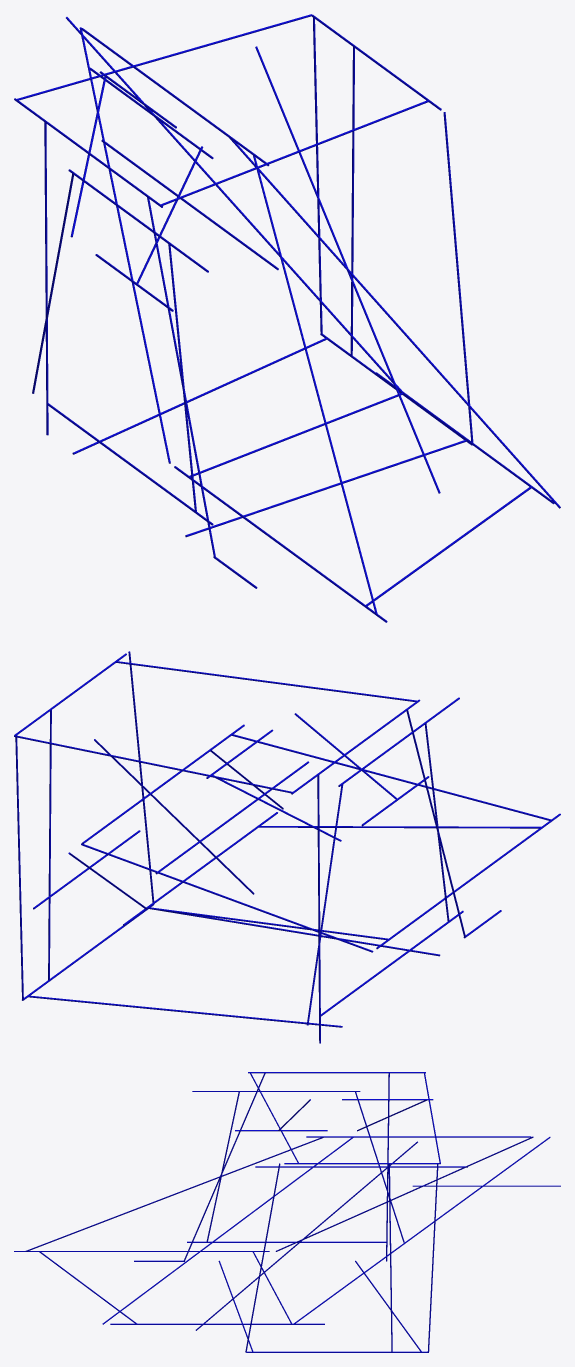
Rendered from corrected_3d_strokes.glb.
3 views of the same model, one above another, from view 1: azimuth 30°, elevation 25°; view 2: azimuth 150°, elevation 25°; view 3: azimuth 270°, elevation 25° (orthographic). The views are drawn at different scales.
Visible parts, largest first — view 1: world; view 2: world; view 3: world.
Part boxes in pixels (x1,y1,x2,y2): world: (14,14,560,622); world: (14,651,560,1043); world: (14,1072,560,1352).
Bounding box in the file's own units: 6.35 × 6.13 × 16.01.
